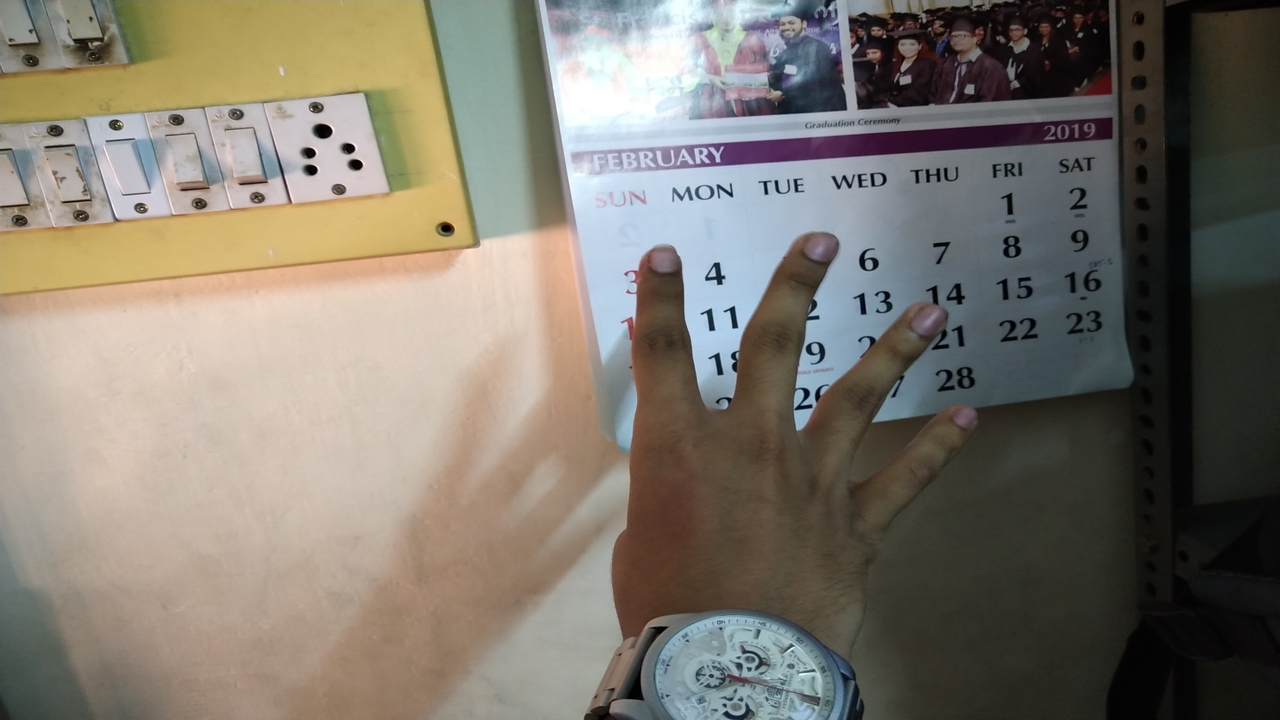fingertip: (935, 398, 998, 454), (788, 224, 850, 280), (892, 292, 956, 346), (632, 240, 686, 290)
